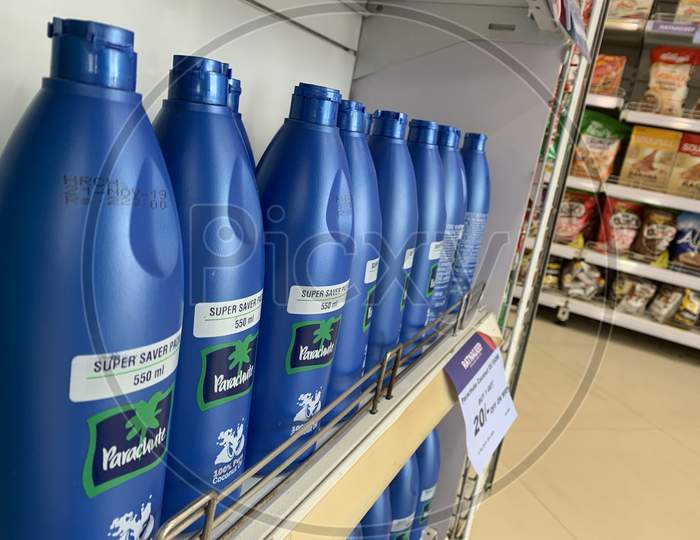parachute: (0, 0, 361, 162), (345, 25, 559, 231)
